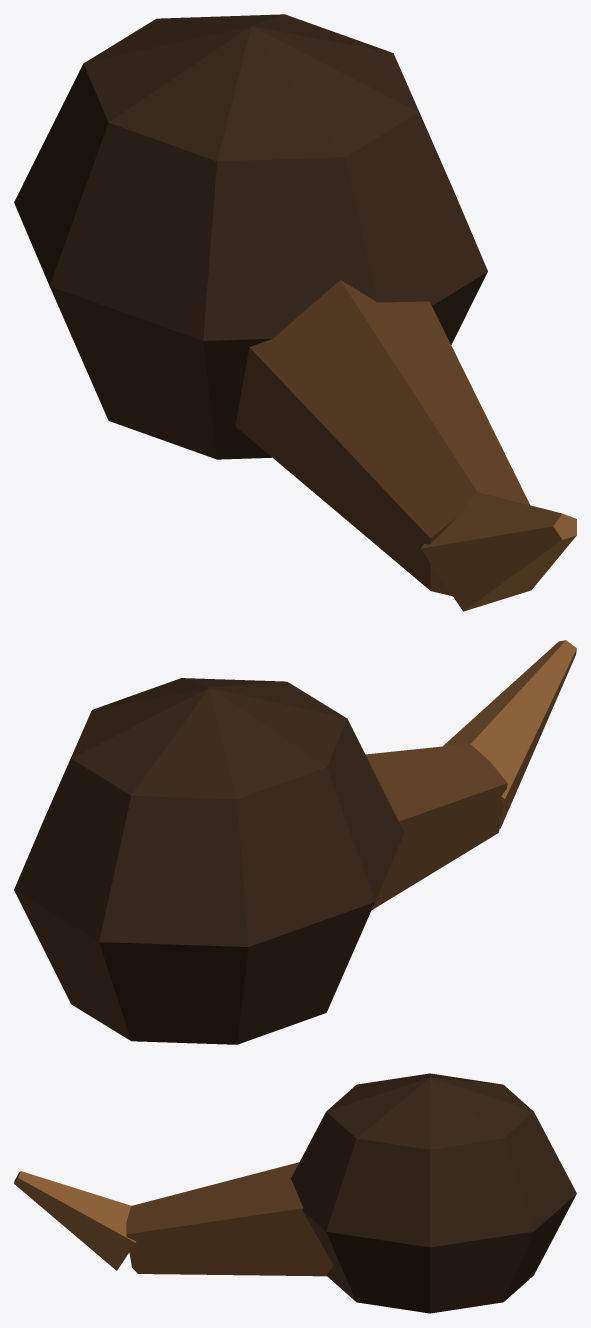
Rendered from foot_l.obj.
The picture shows the model from 3 angles, top to bottom: view 1: azimuth 30°, elevation 25°; view 2: azimuth 150°, elevation 25°; view 3: azimuth 270°, elevation 25°; orthographic projection. The views are drawn at different scales.
Visible parts, largest first — view 1: Root_heel_L, Bent_toe_L, Point_of_toe_L; view 2: Root_heel_L, Bent_toe_L, Point_of_toe_L; view 3: Root_heel_L, Bent_toe_L, Point_of_toe_L.
Boxes of the visible parts, bbox=[...] form: Root_heel_L: bbox=[14, 14, 487, 459]; Bent_toe_L: bbox=[235, 280, 529, 596]; Point_of_toe_L: bbox=[421, 492, 576, 611]; Root_heel_L: bbox=[14, 678, 404, 1044]; Bent_toe_L: bbox=[365, 743, 507, 909]; Point_of_toe_L: bbox=[443, 640, 576, 828]; Root_heel_L: bbox=[291, 1073, 576, 1313]; Bent_toe_L: bbox=[126, 1162, 333, 1276]; Point_of_toe_L: bbox=[14, 1171, 136, 1270].
Bounding box in the file's own units: 0.2 × 0.2 × 0.4406.
